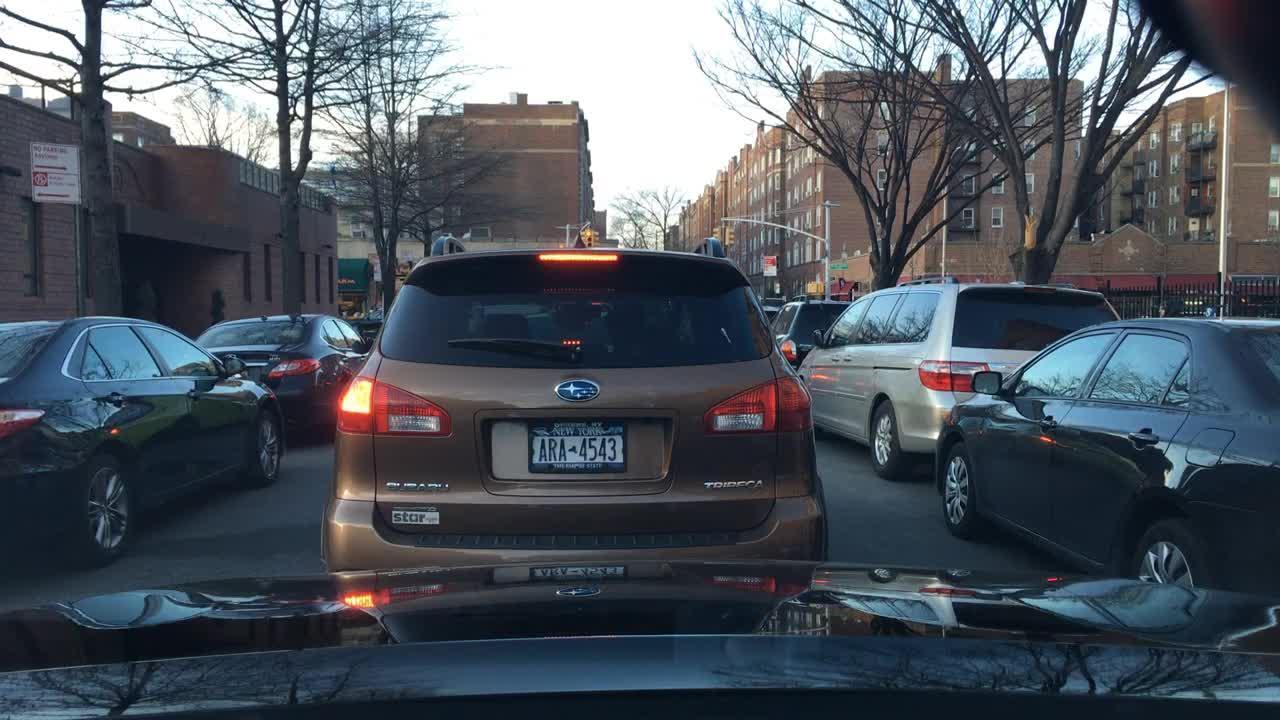subaru: (548, 372, 605, 409)
